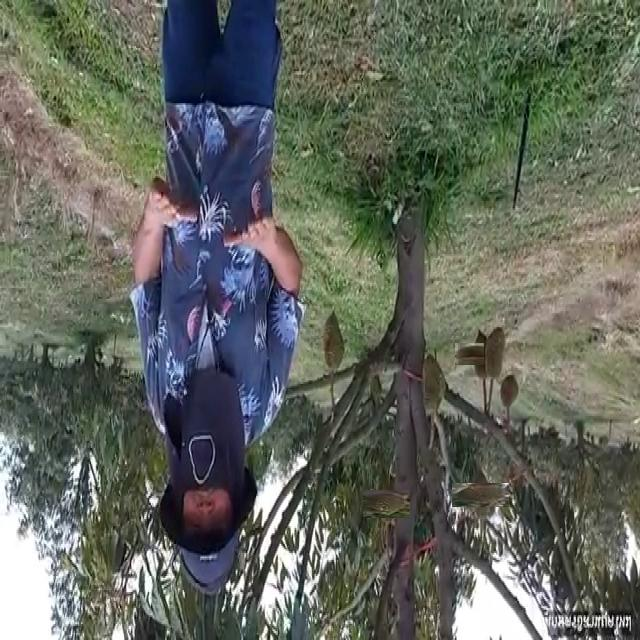durian: (419, 352, 447, 420), (460, 474, 501, 516), (322, 309, 346, 371), (367, 485, 405, 523), (484, 323, 508, 382), (463, 335, 500, 373), (498, 370, 521, 410)
